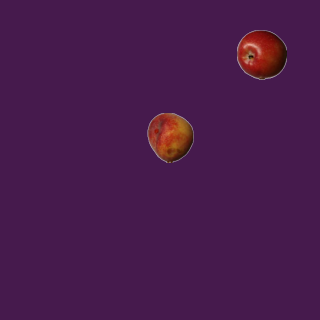Apple Braeburn: (236, 29, 286, 79)
Peach: (145, 112, 195, 162)
